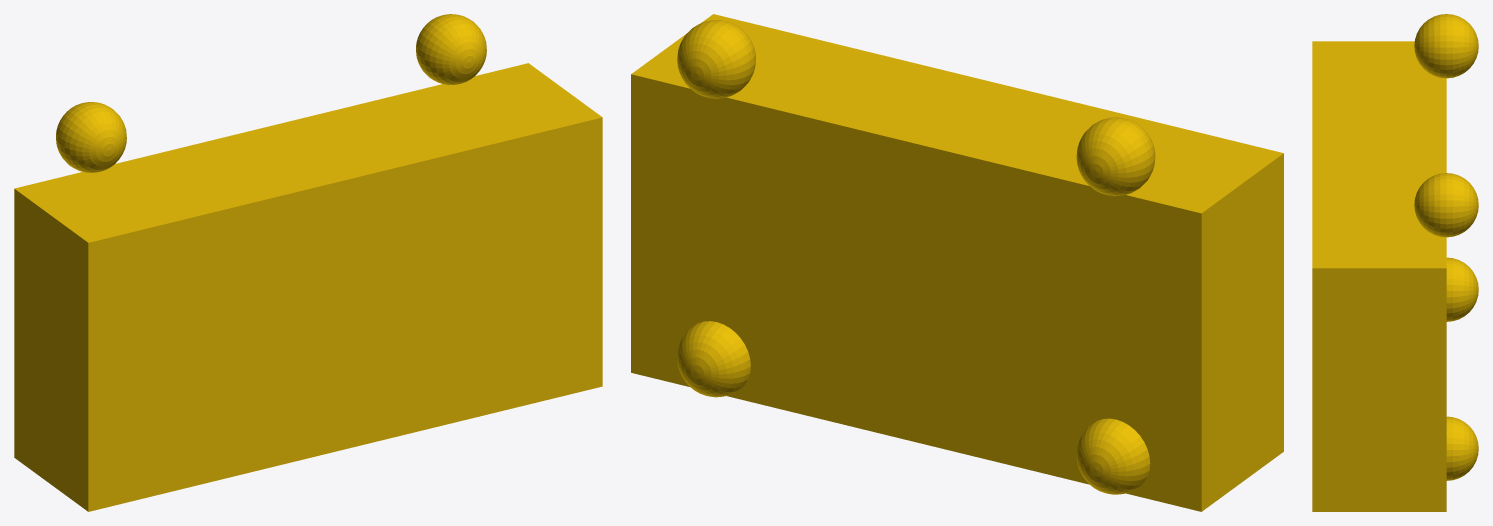
The model's file is simple_car.fbx.
3 views of the same model, side by side, from view 1: azimuth 30°, elevation 25°; view 2: azimuth 150°, elevation 25°; view 3: azimuth 270°, elevation 25° (orthographic). The views are drawn at different scales.
Parts seen in each view (by area): view 1: base_link_visual, rear_left_wheel_visual, front_left_wheel_visual; view 2: base_link_visual, front_left_wheel_visual, rear_left_wheel_visual, rear_right_wheel_visual, front_right_wheel_visual; view 3: base_link_visual, front_left_wheel_visual, rear_left_wheel_visual, rear_right_wheel_visual, front_right_wheel_visual.
Part boxes in pixels (box(x1,y1,x2,y2)): base_link_visual: box(14, 63, 602, 511); rear_left_wheel_visual: box(56, 102, 126, 172); front_left_wheel_visual: box(416, 14, 486, 85); base_link_visual: box(631, 14, 1283, 511); front_left_wheel_visual: box(677, 20, 755, 98); rear_left_wheel_visual: box(1076, 117, 1155, 196); rear_right_wheel_visual: box(1076, 418, 1150, 494); front_right_wheel_visual: box(677, 321, 750, 397); base_link_visual: box(1312, 41, 1446, 511); front_left_wheel_visual: box(1414, 173, 1478, 237); rear_left_wheel_visual: box(1414, 14, 1478, 78); rear_right_wheel_visual: box(1446, 257, 1478, 321); front_right_wheel_visual: box(1446, 416, 1478, 480).
Size of the model in its own units: 200 by 124 by 62.
